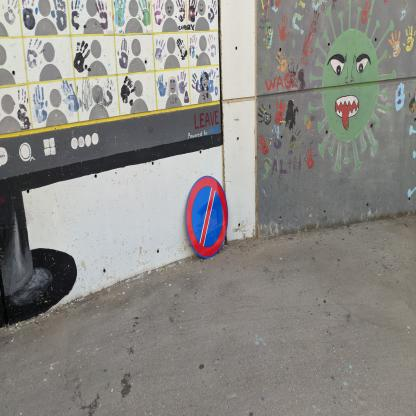No Waiting: (187, 176, 229, 259)
